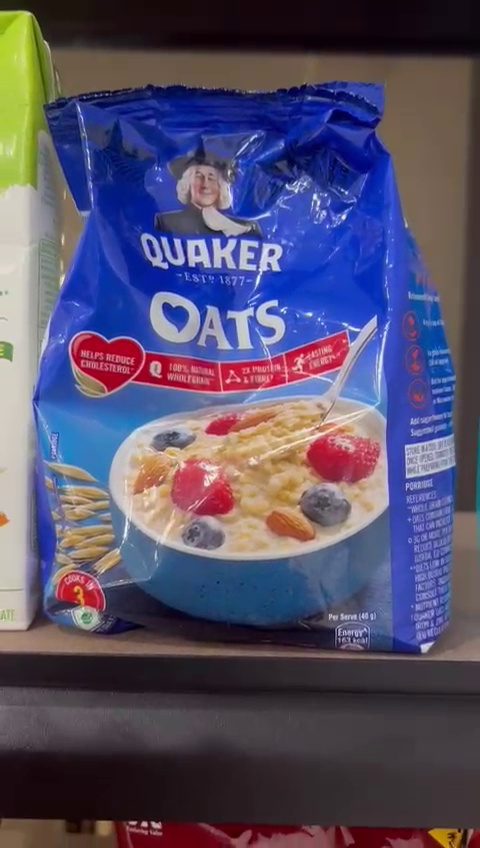Quaker Oats: (21, 86, 480, 650)
